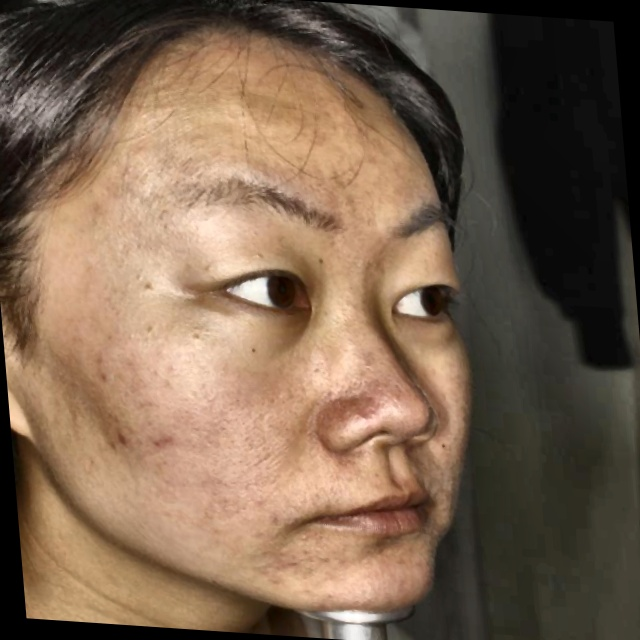comedone: (95, 426, 134, 460), (155, 432, 182, 456)
